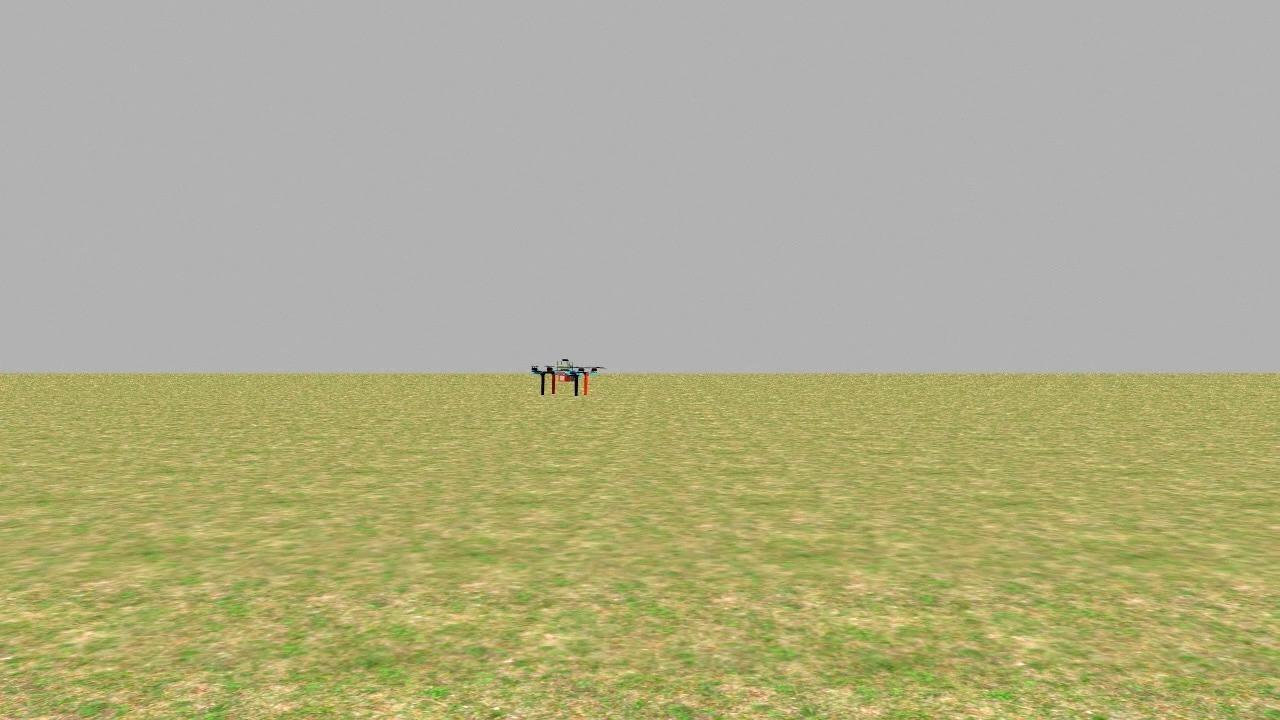UAV: (526, 338, 611, 407)
